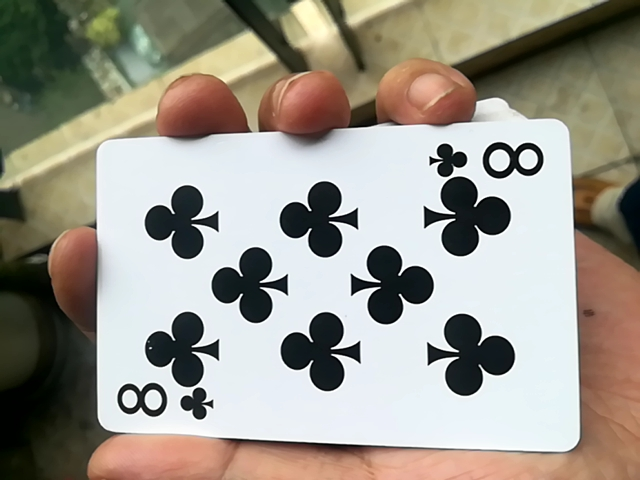mh 8: (89, 125, 570, 464)
